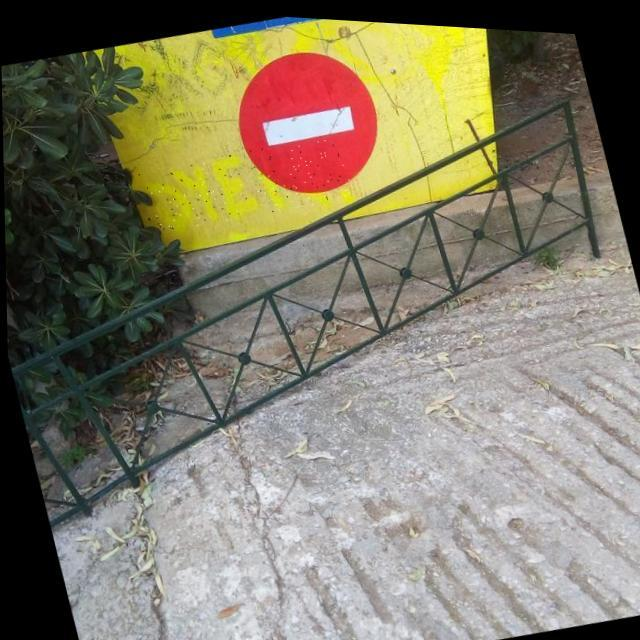-: (136, 121, 357, 241)
